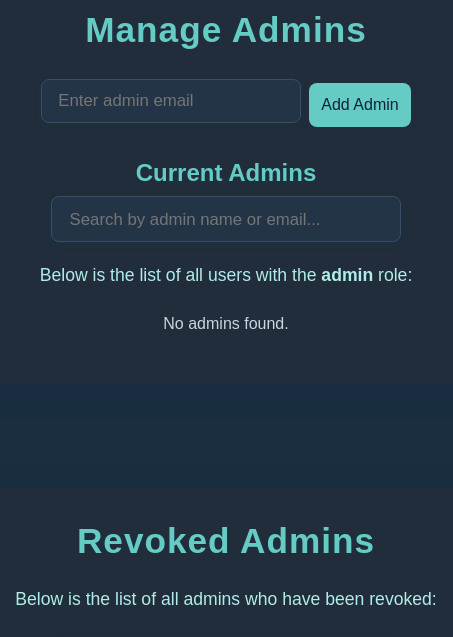
Test case: ManageAdmins › adds a new admin with valid email
Type "newadmin@test.com" into the field with placeholder "Enter admin email" at (171, 101), box [41, 79, 301, 123]
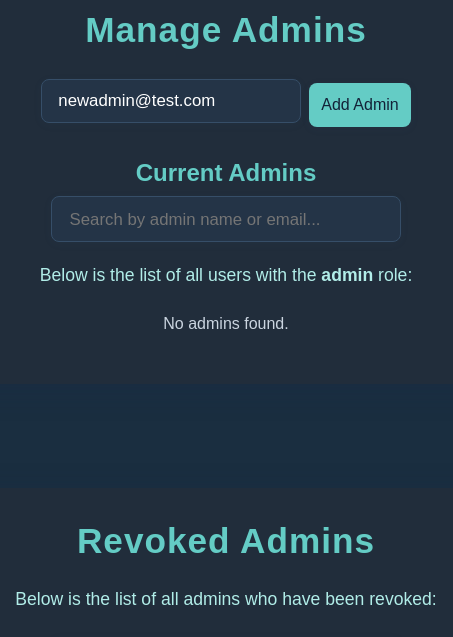
Click the button "Add Admin" at (360, 105), box [309, 83, 411, 127]
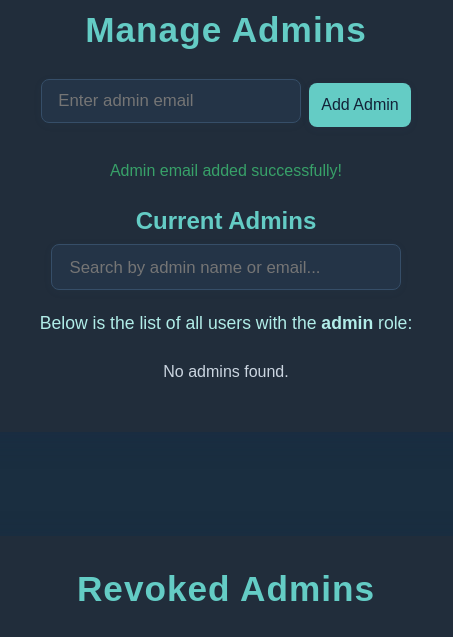
Check: the text "Admin email added successfully!" is shown, box [110, 162, 342, 179]
